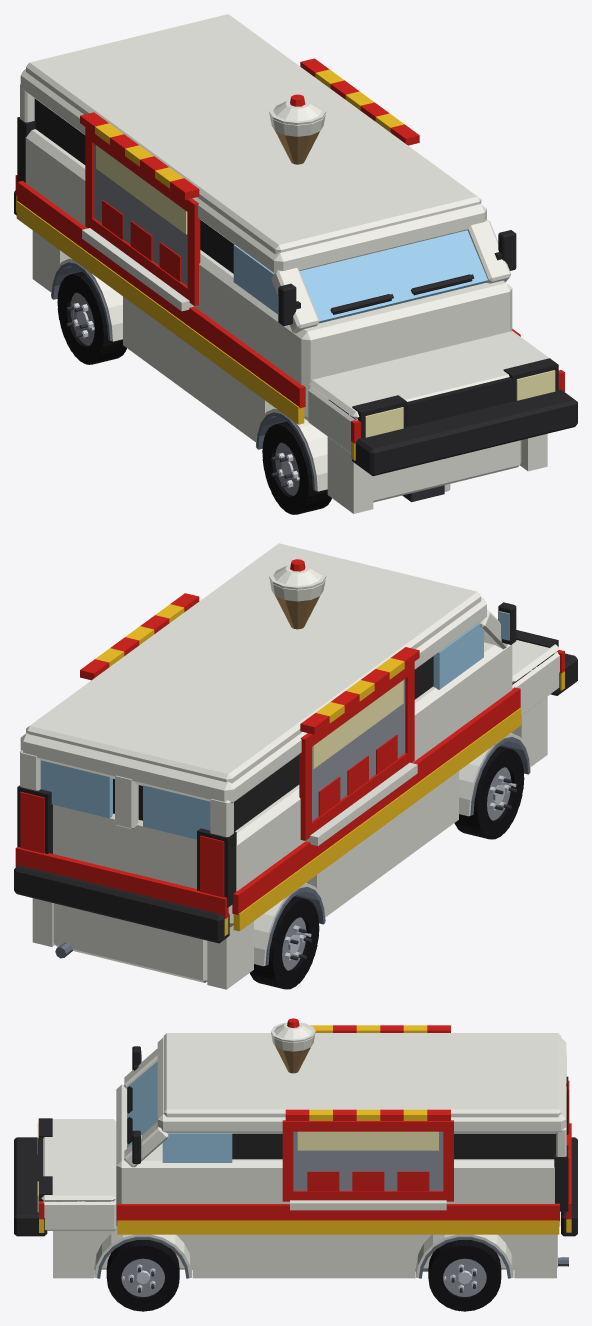
Rendered from IceCreamVan.glb.
3 renders of one model, top to bottom at view 1: azimuth 30°, elevation 25°; view 2: azimuth 150°, elevation 25°; view 3: azimuth 270°, elevation 25°, orthographic. The views are drawn at different scales.
Parts seen in each view (by area): view 1: Body, Windscreen, Hood, WheelFR, WheelRR, LampL, LampR; view 2: Body, WheelFR, WheelRR, Hood; view 3: Body, Hood, WheelRL, WheelFL, Windscreen.
Part boxes in pixels (left/top/right/bottom): Body: left=14, top=14, right=577, bottom=513; Windscreen: left=299, top=230, right=487, bottom=323; Hood: left=309, top=331, right=559, bottom=418; WheelFR: left=262, top=421, right=331, bottom=514; WheelRR: left=57, top=271, right=126, bottom=364; LampL: left=516, top=370, right=555, bottom=400; LampR: left=365, top=407, right=403, bottom=437; Body: left=14, top=543, right=577, bottom=989; WheelFR: left=454, top=746, right=524, bottom=839; WheelRR: left=250, top=896, right=319, bottom=989; Hood: left=512, top=640, right=559, bottom=683; Body: left=14, top=1018, right=577, bottom=1278; Hood: left=41, top=1119, right=116, bottom=1201; WheelRL: left=428, top=1240, right=501, bottom=1311; WheelFL: left=106, top=1240, right=179, bottom=1311; Windscreen: left=127, top=1061, right=157, bottom=1147.
Bounding box in the file's own units: 2 × 2.57 × 5.26.
